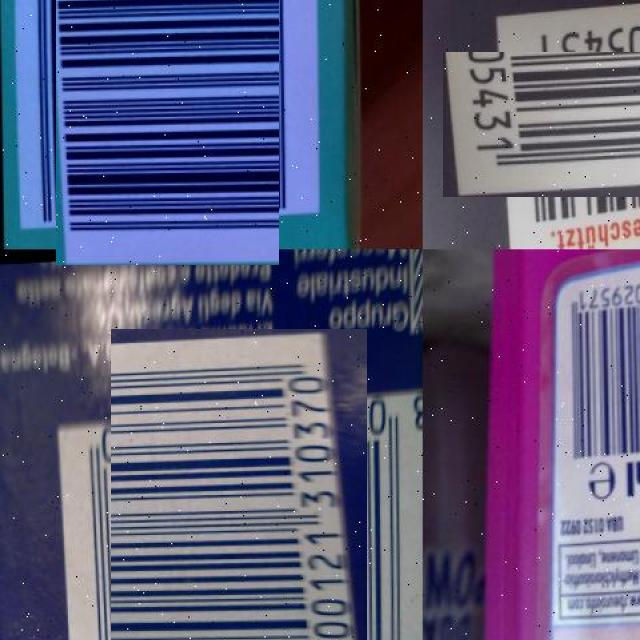Barcode: (83, 356, 395, 640), (35, 0, 301, 244), (469, 26, 640, 223), (560, 269, 640, 456)
